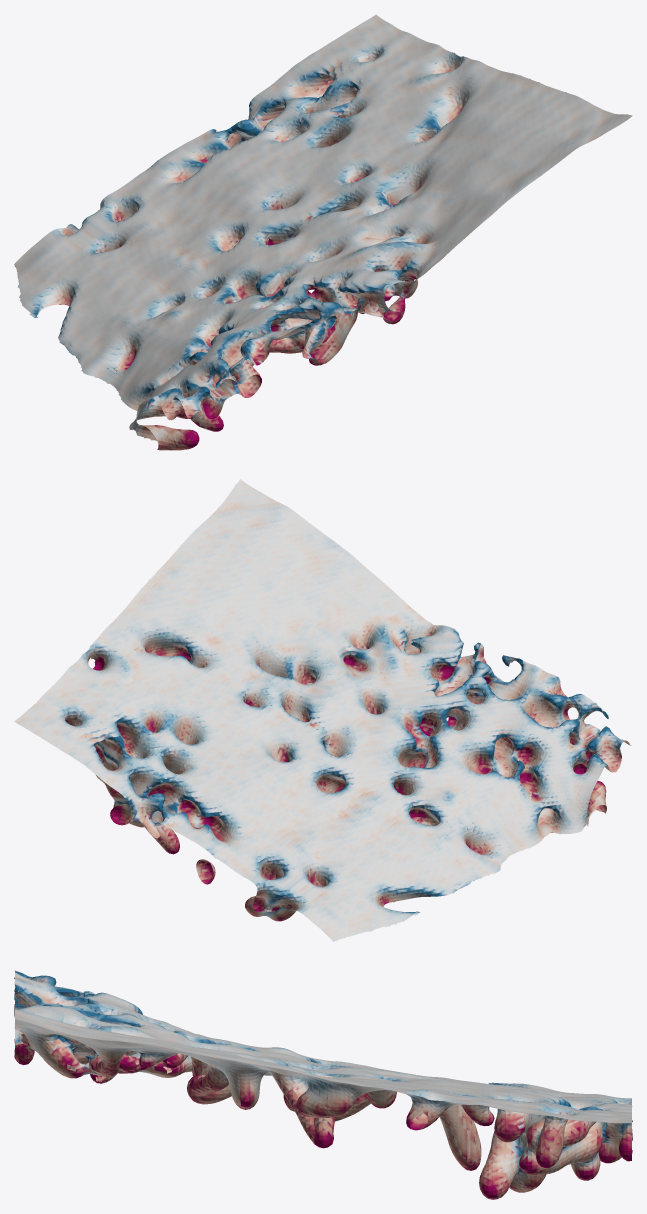
Rendered from crop1074_curvature.glb.
3 views of the same model, one above another, from view 1: azimuth 30°, elevation 25°; view 2: azimuth 150°, elevation 25°; view 3: azimuth 270°, elevation 25° (orthographic). The views are drawn at different scales.
Parts seen in each view (by area): view 1: world; view 2: world; view 3: world.
Part boxes in pixels (<box>): world: <box>14,14,632,450</box>; world: <box>14,479,631,941</box>; world: <box>14,970,632,1199</box>.
Size of the model in its own units: 2280 by 1216 by 2280.
